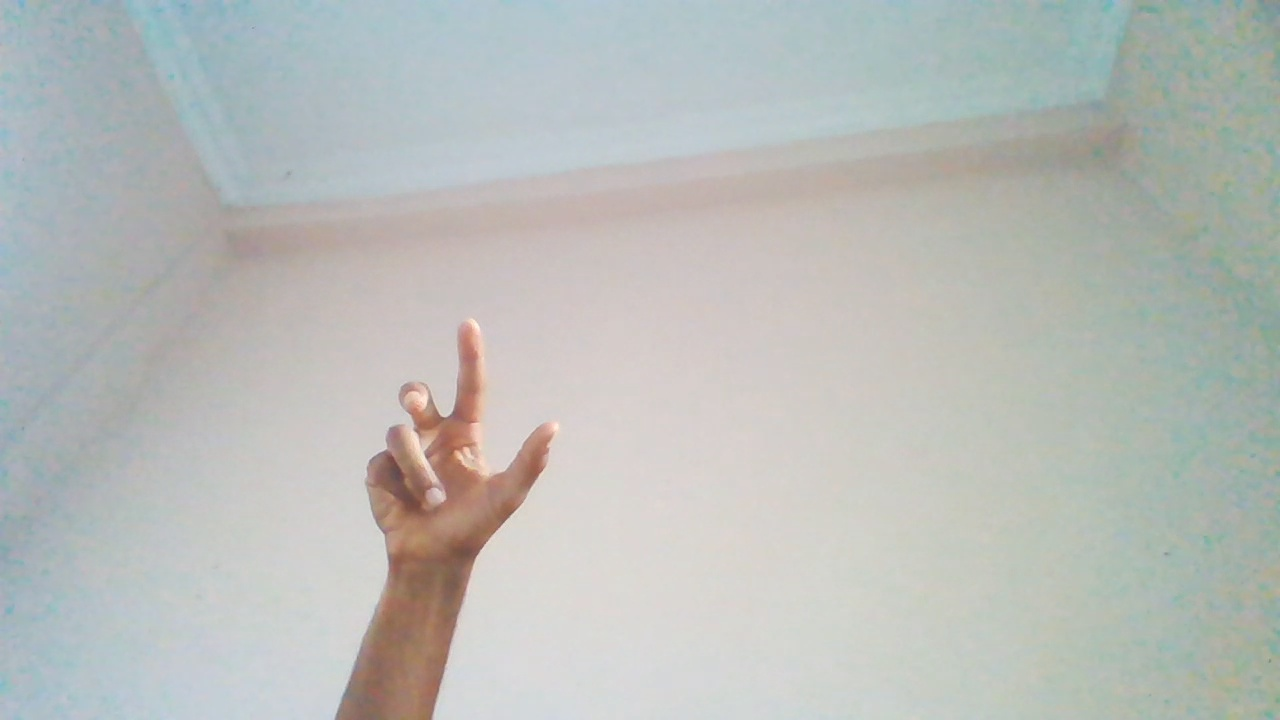hhe: (363, 316, 559, 662)
